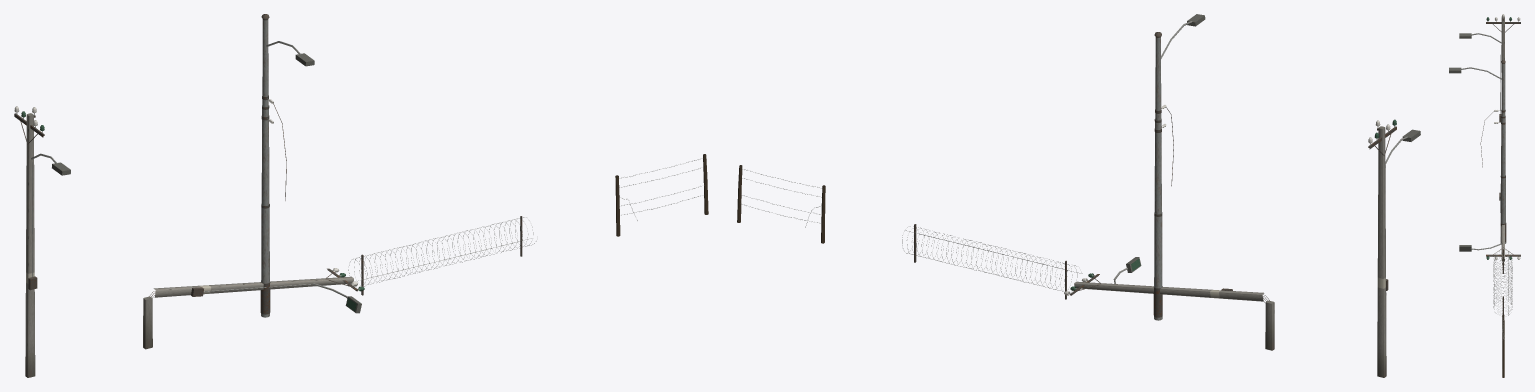
The model's file is wires.glb.
The picture shows the model from 3 angles, left to right: view 1: azimuth 30°, elevation 25°; view 2: azimuth 150°, elevation 25°; view 3: azimuth 270°, elevation 25°; orthographic projection. The views are drawn at different scales.
Parts seen in each view (by area): view 1: utility_pole, trolleybus_pole, utility_pole_broken, concertina_coil, barbed_wire_fence; view 2: utility_pole, trolleybus_pole, utility_pole_broken, concertina_coil, barbed_wire_fence; view 3: trolleybus_pole, utility_pole, concertina_coil, utility_pole_broken, barbed_wire_fence.
Boxes of the visible parts, x1=… form: utility_pole: x1=14, y1=106, x2=70, y2=377; trolleybus_pole: x1=260, y1=14, x2=314, y2=317; utility_pole_broken: x1=143, y1=268, x2=364, y2=349; concertina_coil: x1=348, y1=216, x2=536, y2=295; barbed_wire_fence: x1=615, y1=154, x2=708, y2=236; utility_pole: x1=1368, y1=119, x2=1420, y2=377; trolleybus_pole: x1=1153, y1=14, x2=1205, y2=320; utility_pole_broken: x1=1064, y1=257, x2=1274, y2=350; concertina_coil: x1=902, y1=224, x2=1082, y2=299; barbed_wire_fence: x1=737, y1=165, x2=825, y2=243; trolleybus_pole: x1=1449, y1=60, x2=1506, y2=243; utility_pole: x1=1459, y1=14, x2=1520, y2=122; concertina_coil: x1=1493, y1=249, x2=1512, y2=315; utility_pole_broken: x1=1459, y1=192, x2=1520, y2=264; barbed_wire_fence: x1=1502, y1=314, x2=1504, y2=377.
Bounding box in the file's own units: 23.21 × 10 × 3.49.
Materials: 2 (2 with a texture image).
